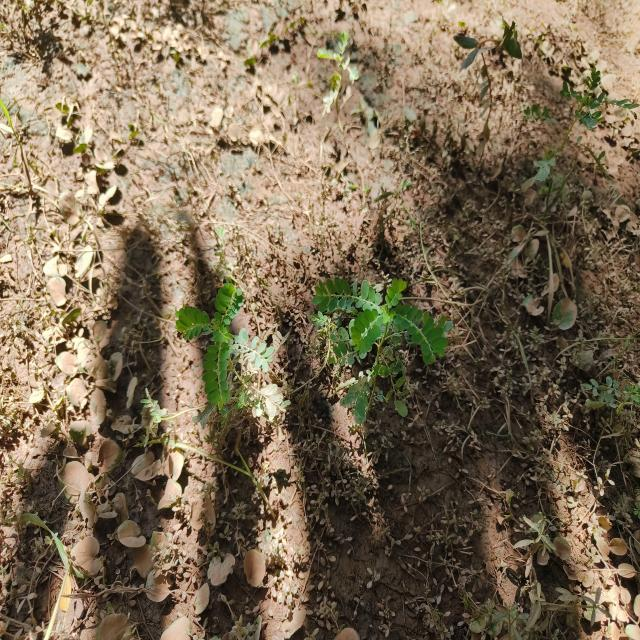weed: (313, 268, 458, 418), (155, 266, 243, 409), (584, 379, 638, 430)
